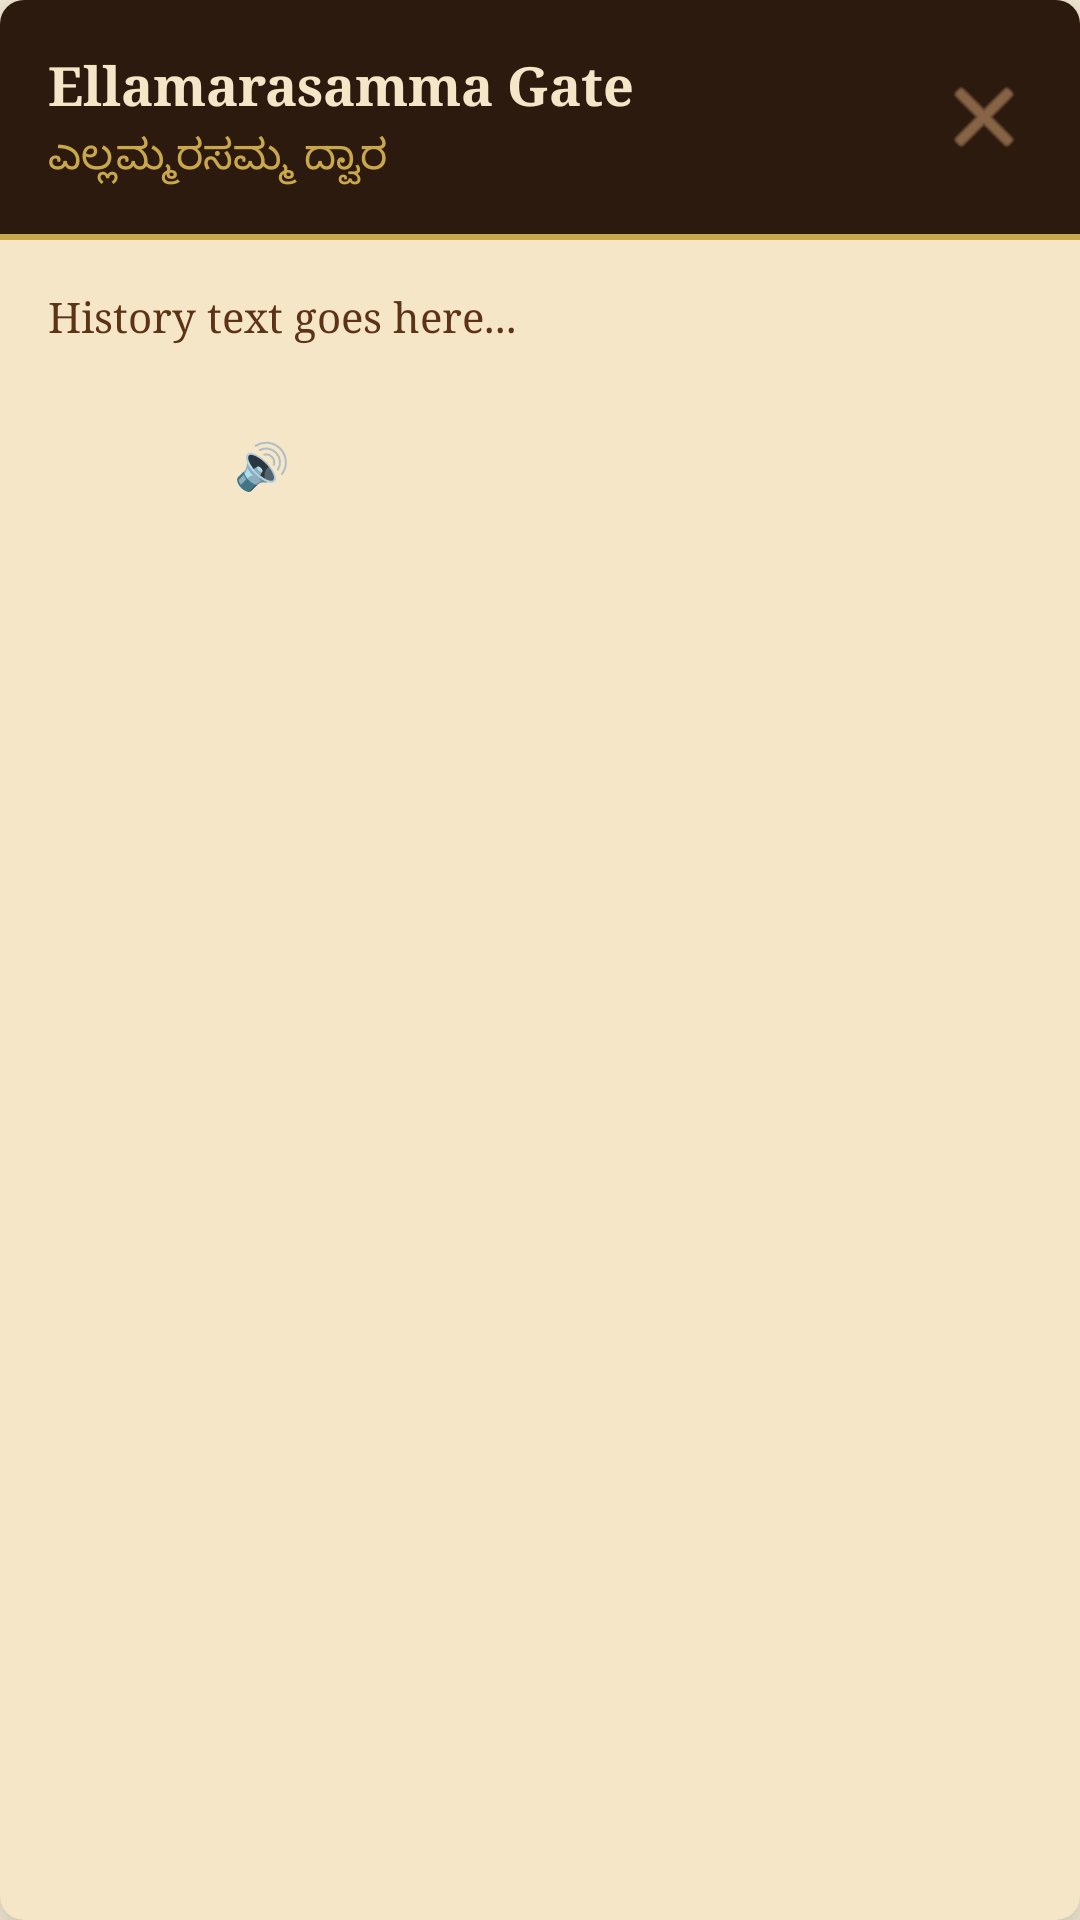

Icons on this 1080*1920 Android screen, each with the point to tap as point (x, y):
Close: point (984, 117)
